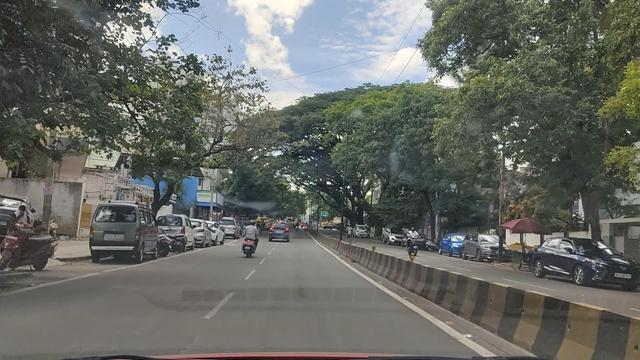LMV: (93, 204, 160, 260), (242, 211, 266, 263)
